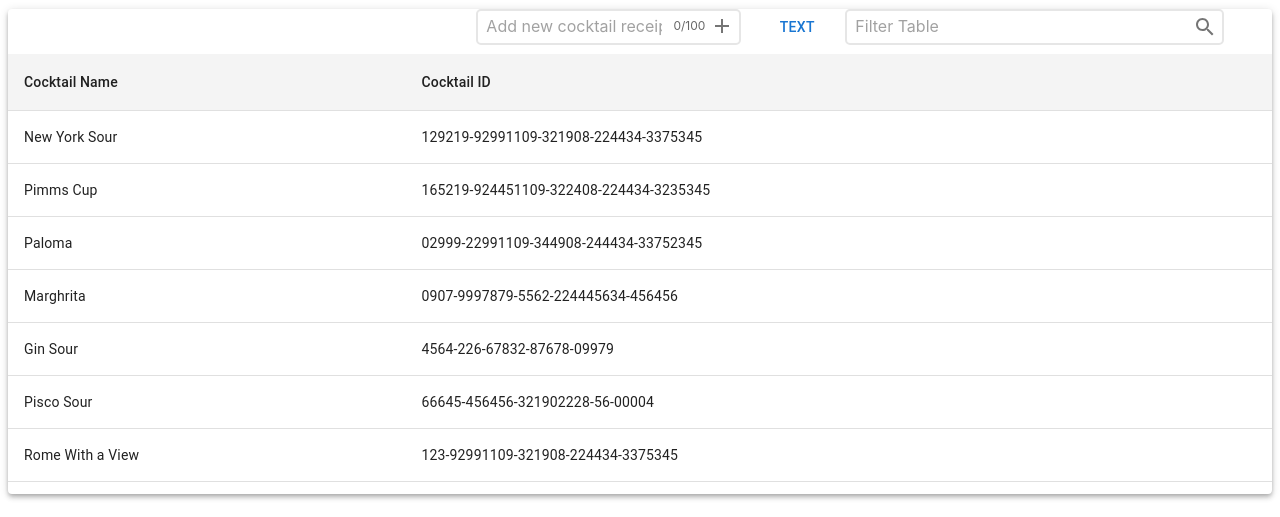
Test: Navigable Table › filters table rows
Type "gin" into the field with placeholder "Filter Table" at (1016, 27), box [855,11,1177,43]
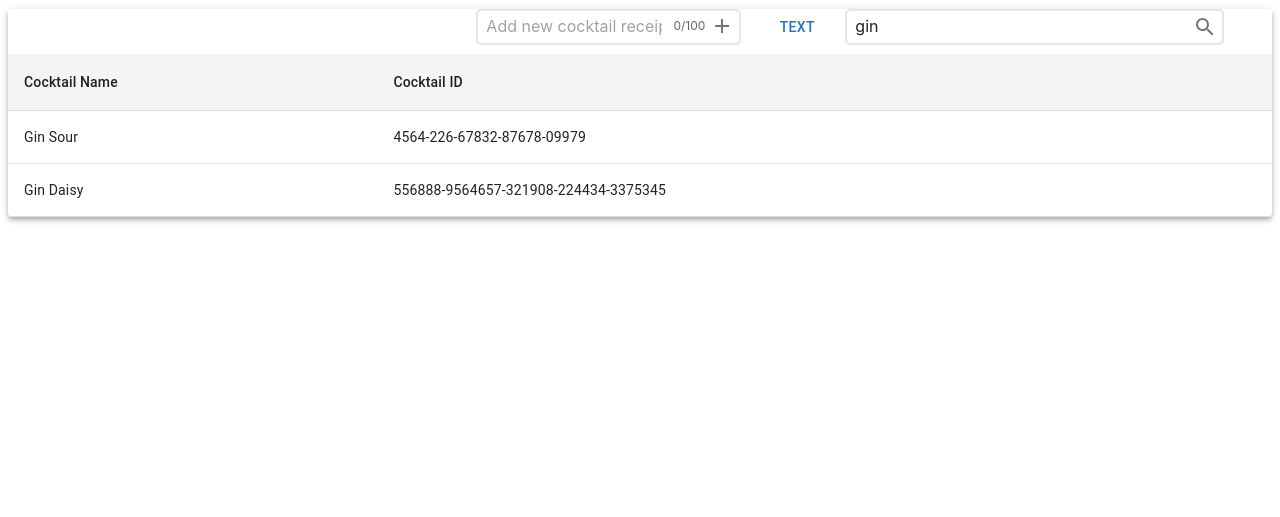
Result: the number of rows is 3 at [8,54,1272,110]; [8,110,1272,164]; [8,164,1272,216]
Result: the cell "Gin Sour" is shown at [8,110,378,164]
Result: the cell "Gin Daisy" is shown at [8,164,378,216]
